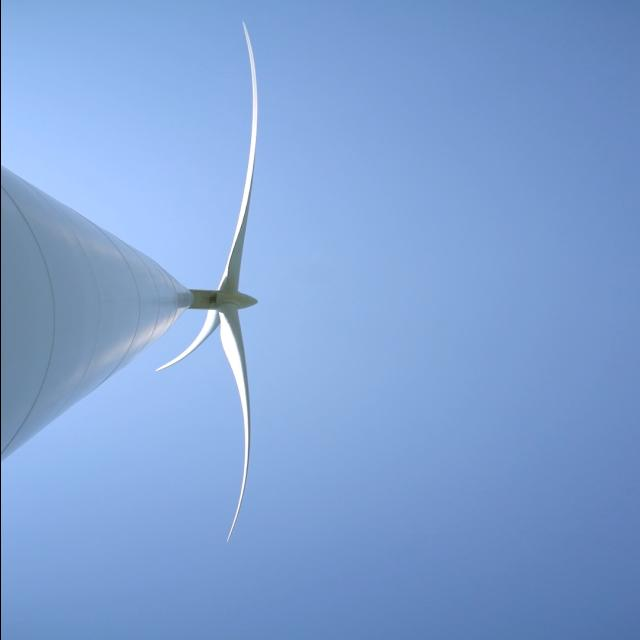blade 1: (212, 333, 252, 598)
blade 2: (156, 329, 206, 374)
blade 3: (220, 9, 292, 259)
